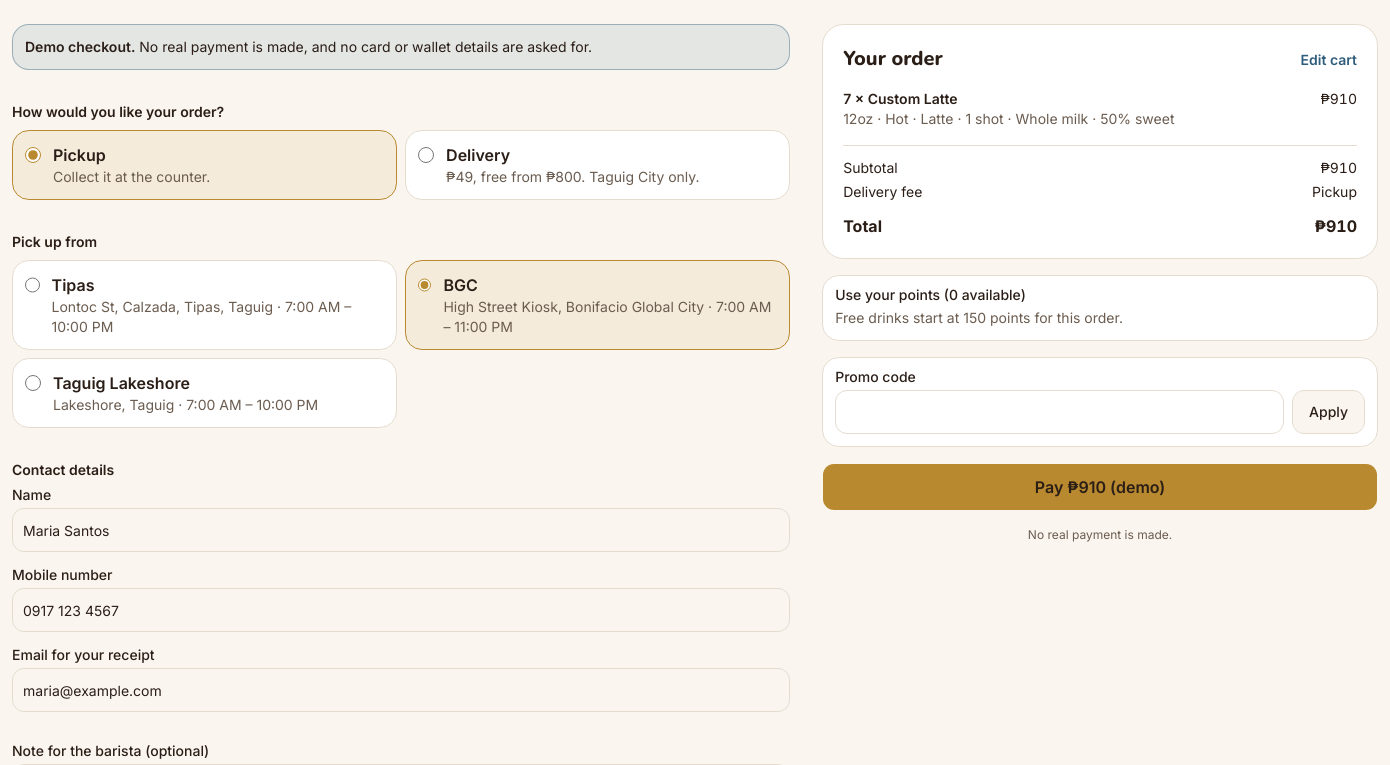
CheckoutForm › shows free delivery from ₱800
This screenshot has width=1390, height=765.
Step 1. Click the radio button labelled "Delivery ₱49, free from ₱800. Taguig City only." → (426, 155), box left=418, top=147, right=434, bottom=163
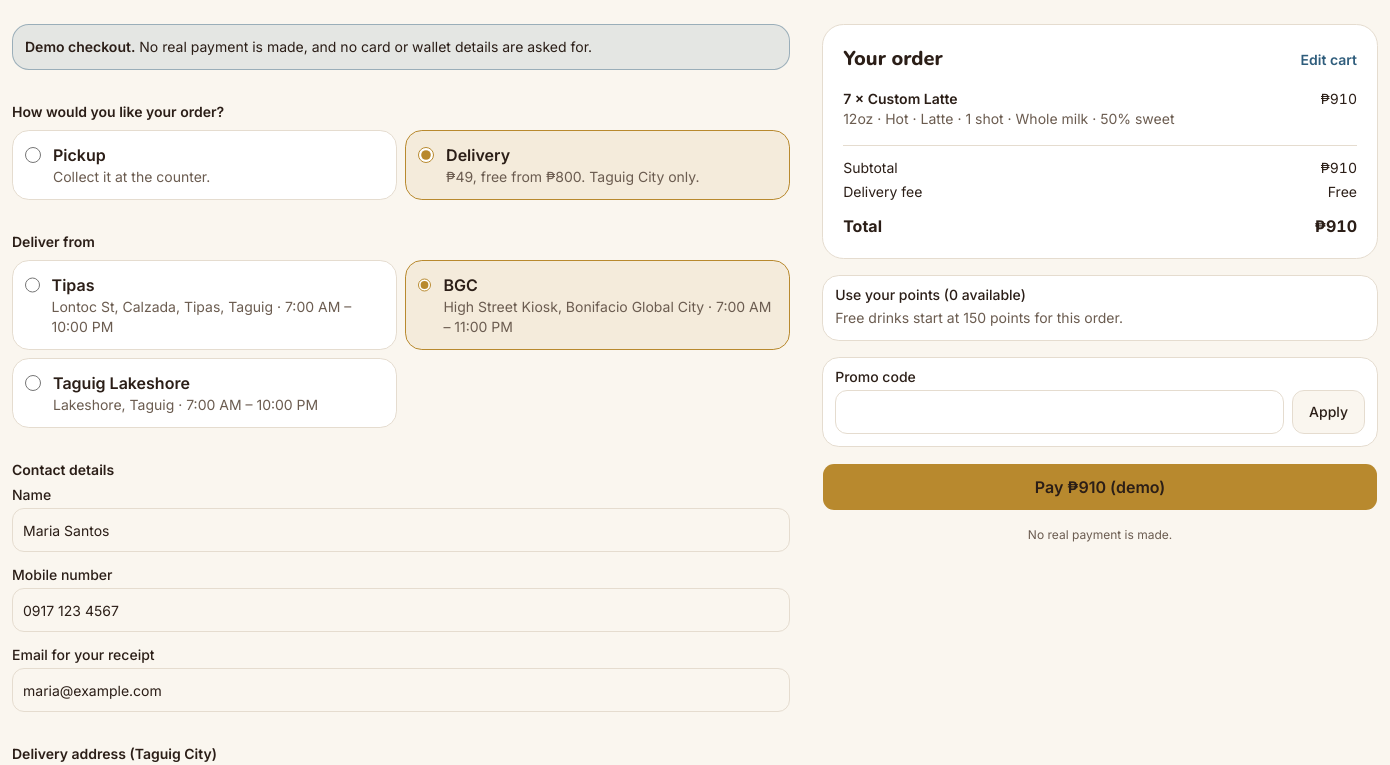
Check: the text with test id "delivery-fee" reads "Free", box left=1328, top=183, right=1357, bottom=200
